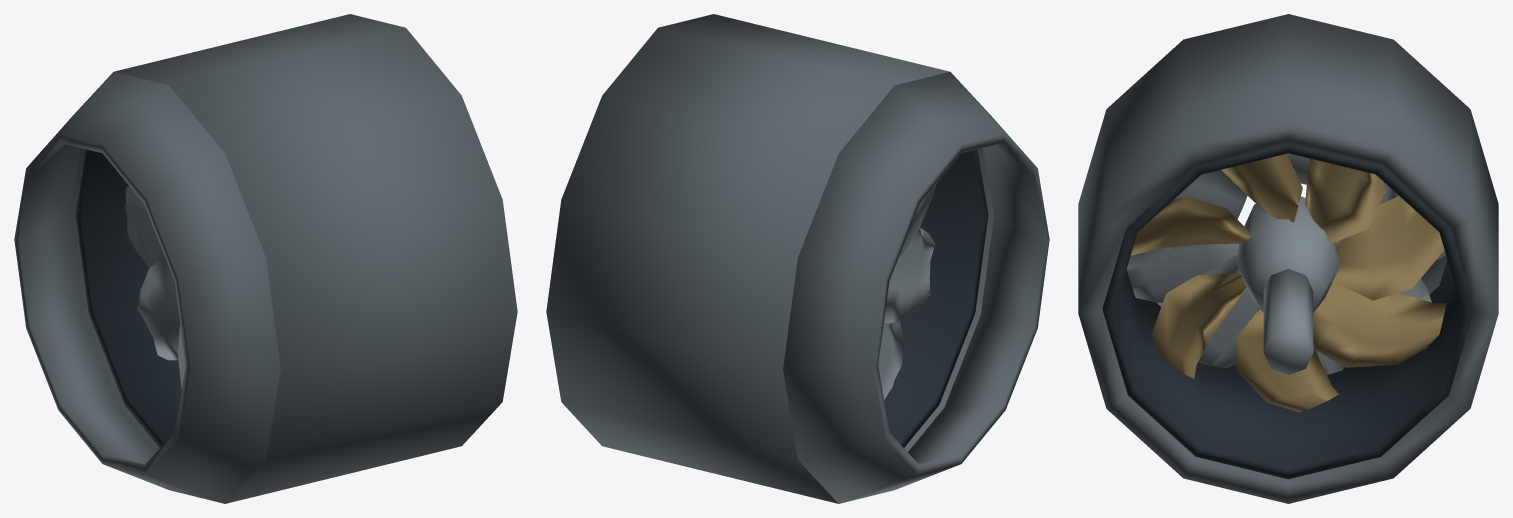
File: UK_PJ_Astute_LOD3.fbx
3 renders of one model, left to right at view 1: azimuth 30°, elevation 25°; view 2: azimuth 150°, elevation 25°; view 3: azimuth 270°, elevation 25°, orthographic. The views are drawn at different scales.
Visible parts, largest first — view 1: UK_PJ_Astute_LOD3_Housing.001, UK_PJ_Astute_LOD3_Nozzle.001, UK_PJ_Astute_LOD3_Lining.001, UK_PJ_Astute_LOD3_Stator_08.001, UK_PJ_Astute_LOD3_Stator_00.001; view 2: UK_PJ_Astute_LOD3_Housing.001, UK_PJ_Astute_LOD3_Nozzle.001, UK_PJ_Astute_LOD3_Lining.001, UK_PJ_Astute_LOD3_Stator_05.001, UK_PJ_Astute_LOD3_Stator_06.001; view 3: UK_PJ_Astute_LOD3_Housing.001, UK_PJ_Astute_LOD3_Lining.001, UK_PJ_Astute_LOD3_Rotor_06.001, UK_PJ_Astute_LOD3_Rotor_00.001, UK_PJ_Astute_LOD3_Hub.001, UK_PJ_Astute_LOD3_Rotor_04.001, UK_PJ_Astute_LOD3_Shaft.001, UK_PJ_Astute_LOD3_Rotor_01.001, UK_PJ_Astute_LOD3_Rotor_05.001, UK_PJ_Astute_LOD3_Rotor_03.001, UK_PJ_Astute_LOD3_Stator_05.001, UK_PJ_Astute_LOD3_Rotor_02.001 (+3 smaller).
Boxes of the visible parts, x1,y1,x2,y2 form: UK_PJ_Astute_LOD3_Housing.001: (70, 14, 517, 503); UK_PJ_Astute_LOD3_Nozzle.001: (14, 71, 280, 503); UK_PJ_Astute_LOD3_Lining.001: (75, 149, 181, 447); UK_PJ_Astute_LOD3_Stator_08.001: (137, 258, 180, 360); UK_PJ_Astute_LOD3_Stator_00.001: (125, 186, 175, 288); UK_PJ_Astute_LOD3_Housing.001: (546, 14, 993, 503); UK_PJ_Astute_LOD3_Nozzle.001: (783, 71, 1049, 503); UK_PJ_Astute_LOD3_Lining.001: (884, 149, 988, 447); UK_PJ_Astute_LOD3_Stator_05.001: (884, 227, 934, 323); UK_PJ_Astute_LOD3_Stator_06.001: (878, 291, 903, 400); UK_PJ_Astute_LOD3_Housing.001: (1078, 14, 1498, 503); UK_PJ_Astute_LOD3_Lining.001: (1103, 143, 1473, 479); UK_PJ_Astute_LOD3_Rotor_06.001: (1313, 275, 1446, 367); UK_PJ_Astute_LOD3_Rotor_00.001: (1336, 196, 1444, 300); UK_PJ_Astute_LOD3_Hub.001: (1237, 196, 1339, 312); UK_PJ_Astute_LOD3_Rotor_04.001: (1152, 273, 1246, 378); UK_PJ_Astute_LOD3_Shaft.001: (1263, 269, 1313, 375); UK_PJ_Astute_LOD3_Rotor_01.001: (1305, 158, 1385, 243); UK_PJ_Astute_LOD3_Rotor_05.001: (1236, 309, 1339, 412); UK_PJ_Astute_LOD3_Rotor_03.001: (1131, 196, 1252, 255); UK_PJ_Astute_LOD3_Stator_05.001: (1126, 243, 1238, 302); UK_PJ_Astute_LOD3_Rotor_02.001: (1221, 153, 1302, 222).
Bounding box in the file's own units: 554 × 550 × 550.
